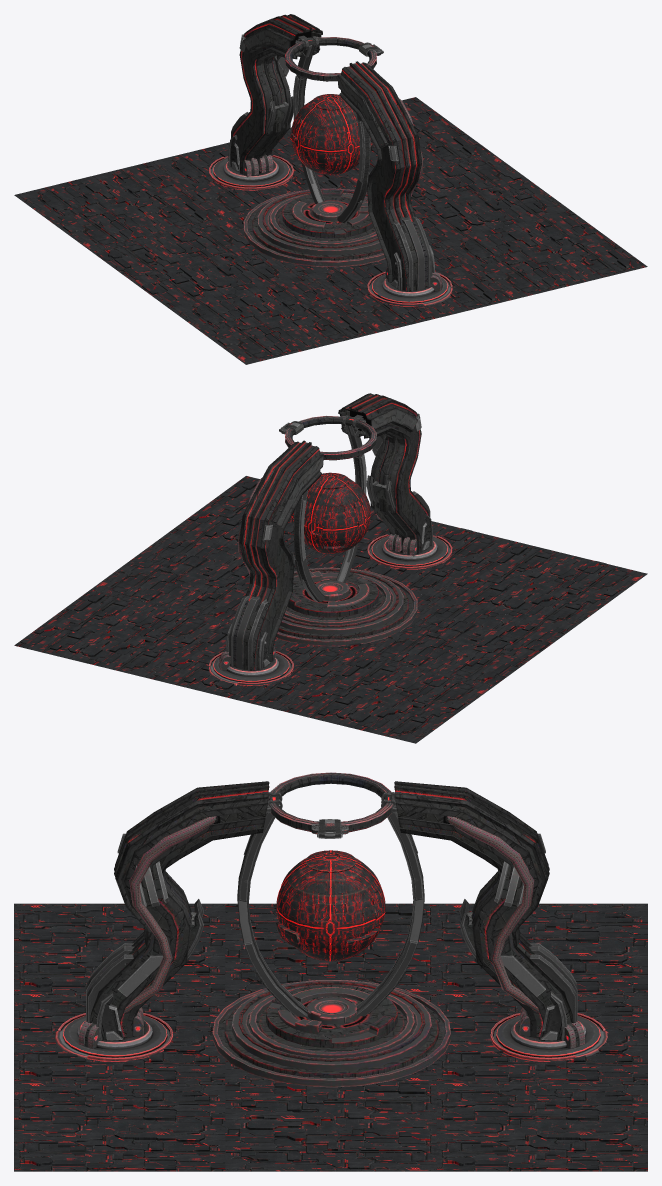
The model's file is Cybernetic Sphere Scene.glb.
The picture shows the model from 3 angles, top to bottom: view 1: azimuth 30°, elevation 25°; view 2: azimuth 150°, elevation 25°; view 3: azimuth 270°, elevation 25°; orthographic projection. The views are drawn at different scales.
Parts seen in each view (by area): view 1: Cyber_Arm_L, Cyber_Ground__4_, Cyber_Ground__5_, Cyber_Ground__6_, Cyber_Ground__2_, Cyber_Arm_R, Cyber_Ground__1_, Cyber_Ground__3_, Cyber_Ground__7_, Cyber_sphere, Cyber_Ground__8_, pCylinder2 (+7 smaller); view 2: Cyber_Arm_R, Cyber_Ground__8_, Cyber_Ground__5_, Cyber_Ground__6_, Cyber_Ground__2_, Cyber_Arm_L, Cyber_Ground__1_, Cyber_Ground__7_, Cyber_Ground__3_, Cyber_sphere, Cyber_Ground__4_, pCylinder2 (+7 smaller); view 3: Cyber_Arm_R, Cyber_Arm_L, Cyber_Ground__8_, Cyber_Ground__4_, Cyber_Ground__1_, Cyber_Ground__3_, Cyber_Ground__7_, Cyber_Ground__6_, Cyber_Ground__5_, Cyber_Ground__2_, Cyber_sphere, pCylinder2 (+8 smaller).
Boxes of the visible parts, box(x1,y1,x2,y2) form: Cyber_Arm_L: box(337, 61, 452, 306); Cyber_Ground__4_: box(437, 210, 647, 299); Cyber_Ground__5_: box(169, 275, 379, 364); Cyber_Ground__6_: box(14, 162, 224, 251); Cyber_Ground__2_: box(92, 219, 301, 308); Cyber_Arm_R: box(209, 14, 322, 190); Cyber_Ground__1_: box(367, 153, 570, 242); Cyber_Ground__3_: box(303, 243, 513, 331); Cyber_Ground__7_: box(148, 133, 356, 218); Cyber_sphere: box(290, 94, 372, 175); Cyber_Ground__8_: box(286, 97, 492, 183); pCylinder2: box(257, 188, 380, 255); Cyber_Arm_R: box(208, 440, 323, 685); Cyber_Ground__8_: box(14, 589, 224, 678); Cyber_Ground__5_: box(437, 541, 647, 630); Cyber_Ground__6_: box(282, 654, 492, 743); Cyber_Ground__2_: box(359, 598, 570, 686); Cyber_Arm_L: box(338, 393, 452, 569); Cyber_Ground__1_: box(92, 532, 296, 621); Cyber_Ground__7_: box(148, 622, 358, 710); Cyber_Ground__3_: box(307, 512, 513, 597); Cyber_sphere: box(291, 472, 370, 553); Cyber_Ground__4_: box(169, 476, 374, 562); pCylinder2: box(280, 568, 403, 634); Cyber_Arm_R: box(394, 781, 608, 1061); Cyber_Arm_L: box(54, 781, 269, 1061); Cyber_Ground__8_: box(436, 1082, 647, 1171); Cyber_Ground__4_: box(14, 1082, 225, 1171); Cyber_Ground__1_: box(225, 1082, 436, 1171); Cyber_Ground__3_: box(14, 993, 225, 1082); Cyber_Ground__7_: box(436, 993, 647, 1082); Cyber_Ground__6_: box(436, 903, 647, 992); Cyber_Ground__5_: box(14, 903, 225, 992); Cyber_Ground__2_: box(225, 903, 436, 992); Cyber_sphere: box(276, 850, 385, 961); pCylinder2: box(232, 980, 431, 1071).
Size of the model in its own units: 1457 by 644 by 1457.
7 materials, 7 textured.
